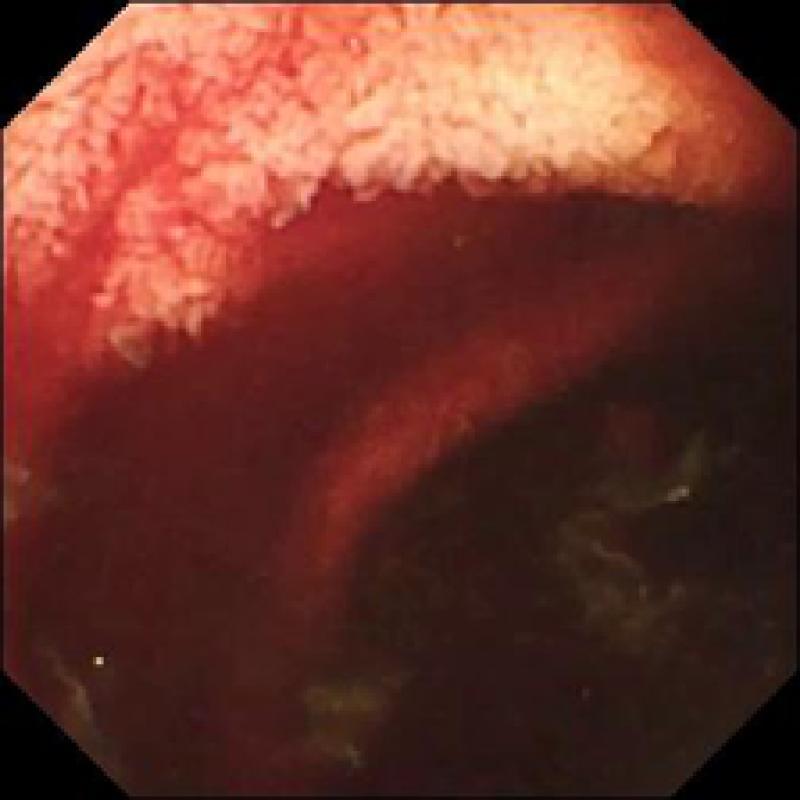bleeding: (3, 50, 760, 793)
